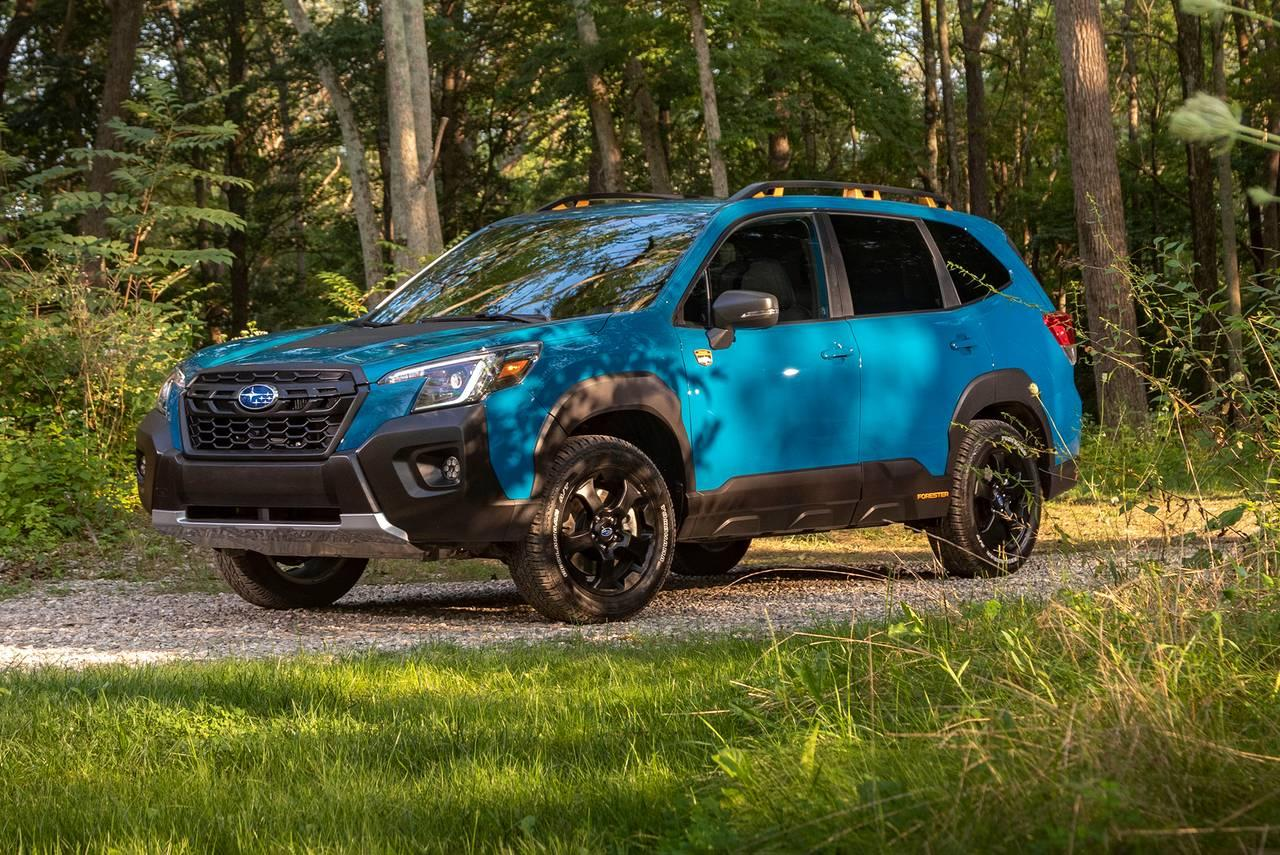subaru: (225, 370, 301, 422)
